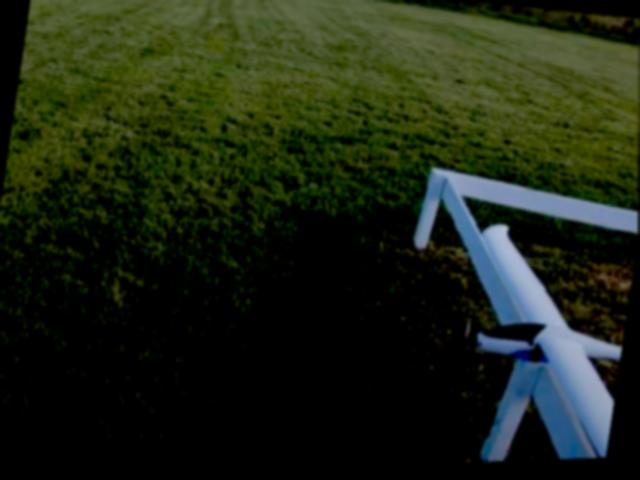iha: (445, 214, 639, 467)
